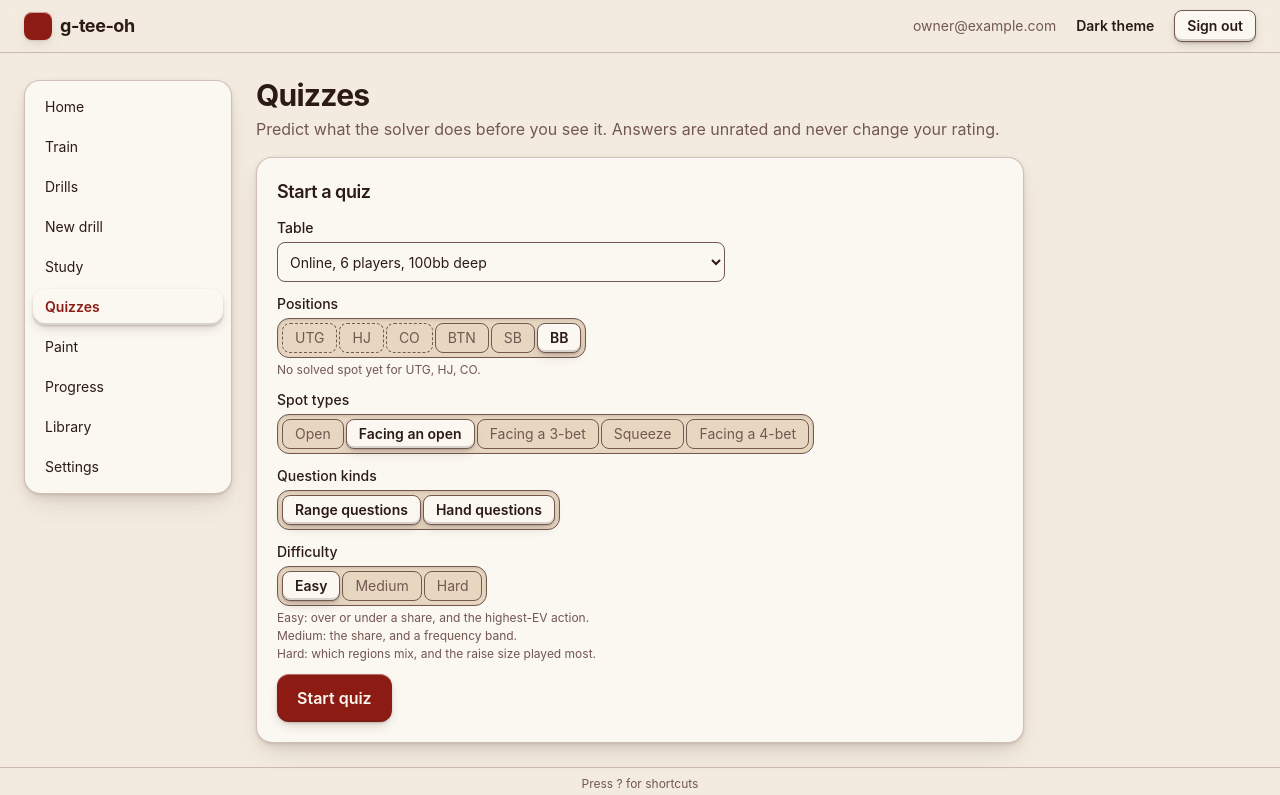
Test: R3.16 the quiz's Enter submits from the chosen option or the page only (PR #45 round 4 b, PR #49 round 1) › R3.16 Enter on a ticked region with a complete answer sends it with every ticked region (PR #49 round 2)
This screenshot has width=1280, height=795.
Click the button "Start quiz".
click(334, 698)  # box [277,674,392,722]
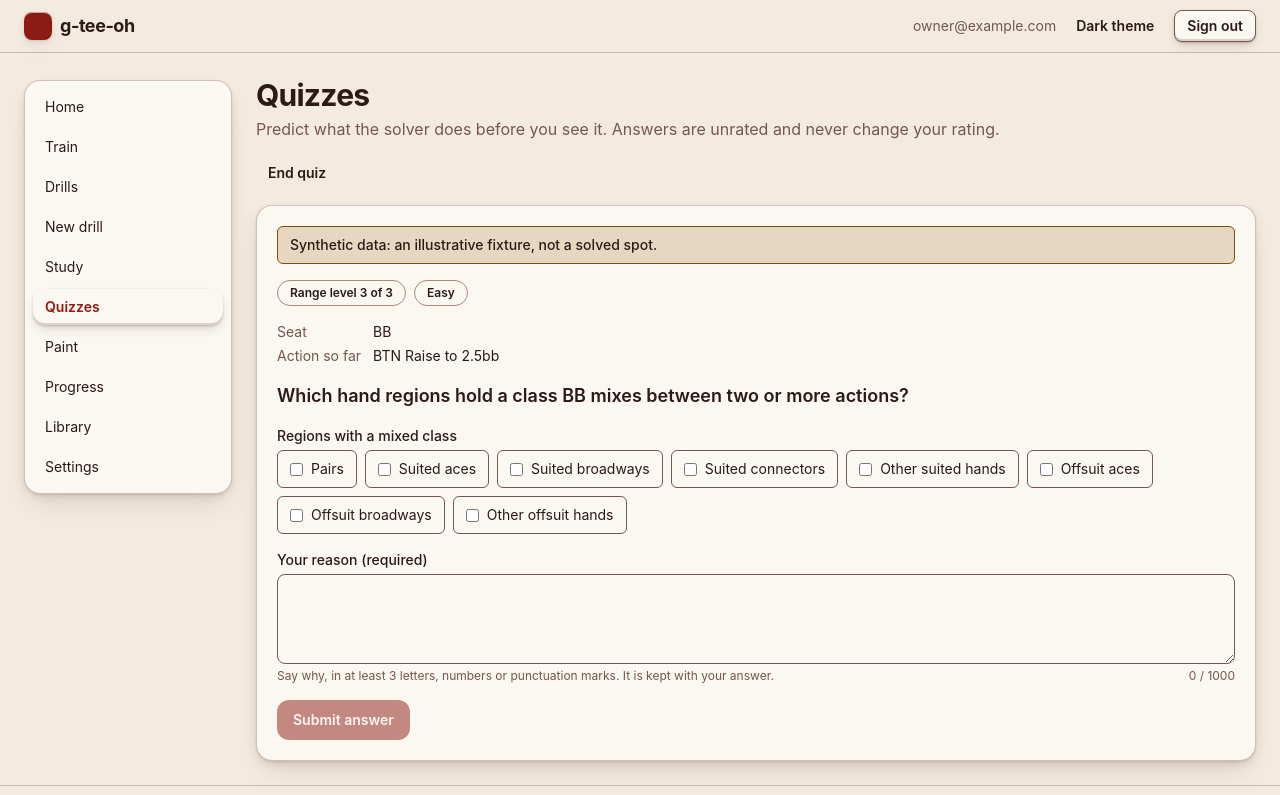
Check: the heading "Which hand regions hold a class BB mixes between two or more actions?" is shown, box [277,385,909,406]
Type "Facing a small open, the price is good." into the text box labelled "Your reason (required)".
click(756, 619); type("Facing a small open, the price is good.")  # box [277,574,1235,664]
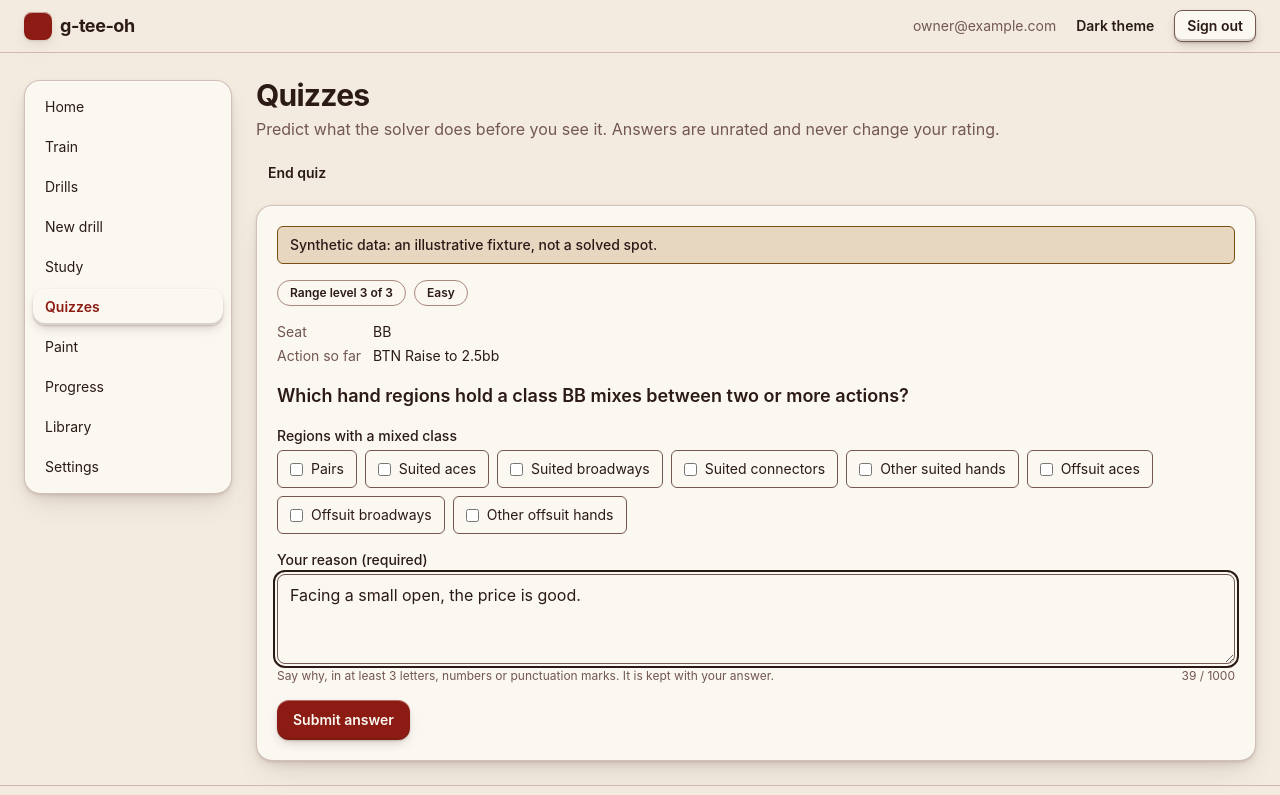
Click the checkbox labelled "Pairs".
click(296, 469)  # box [290,462,303,476]
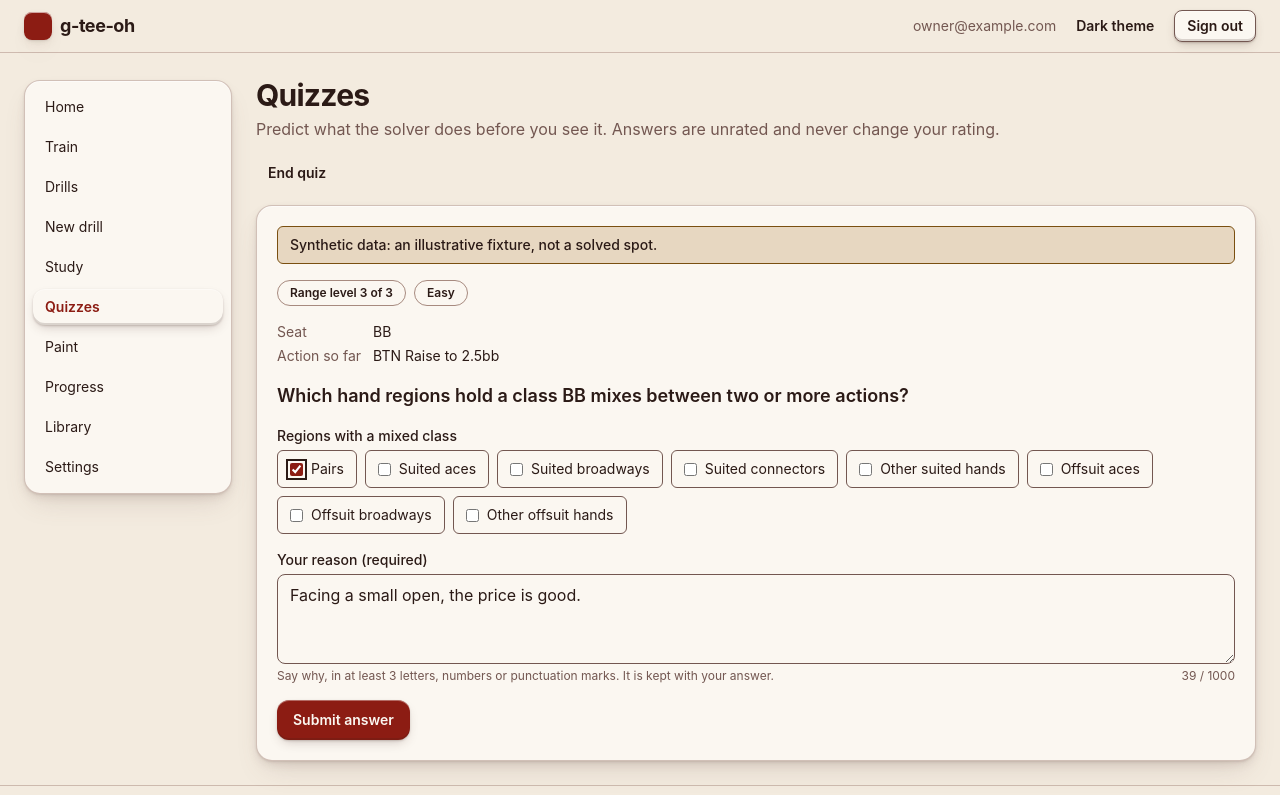
Click the checkbox labelled "Suited aces".
click(384, 469)  # box [378,462,391,476]
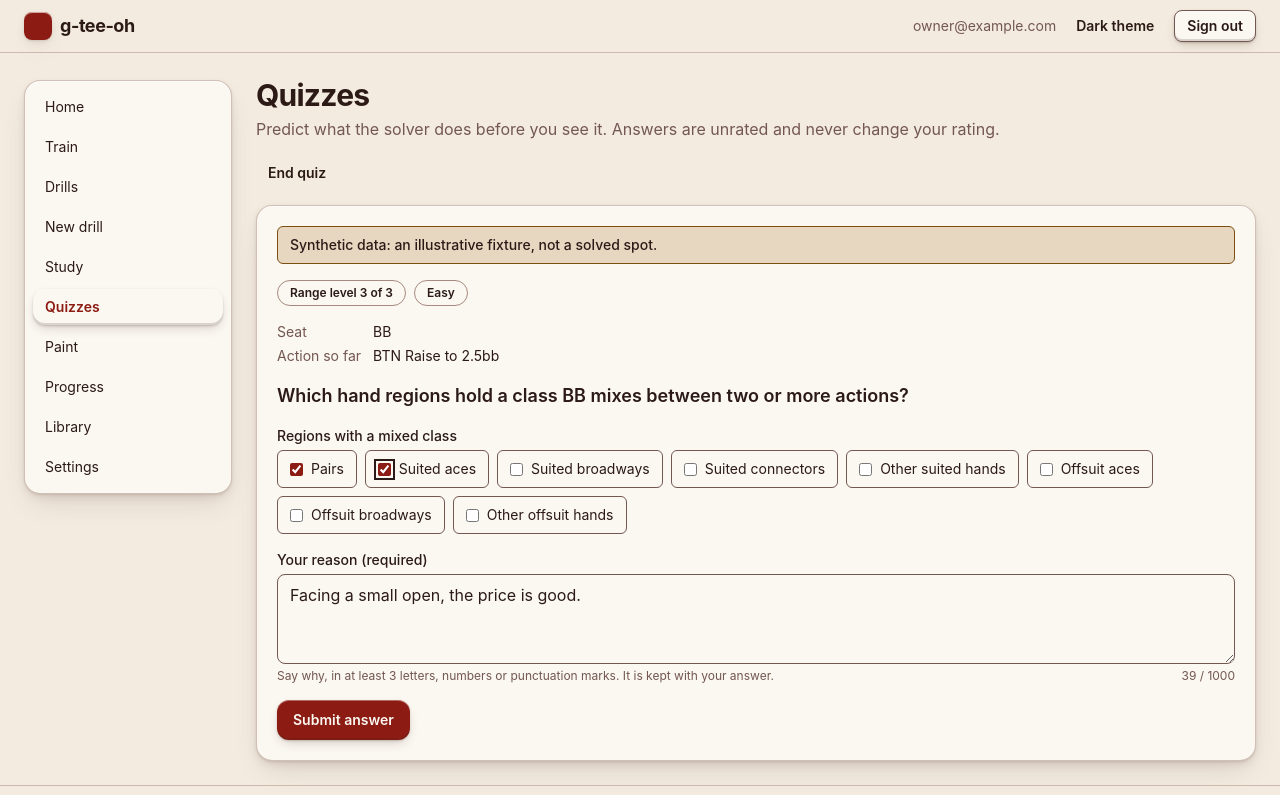
Press Enter
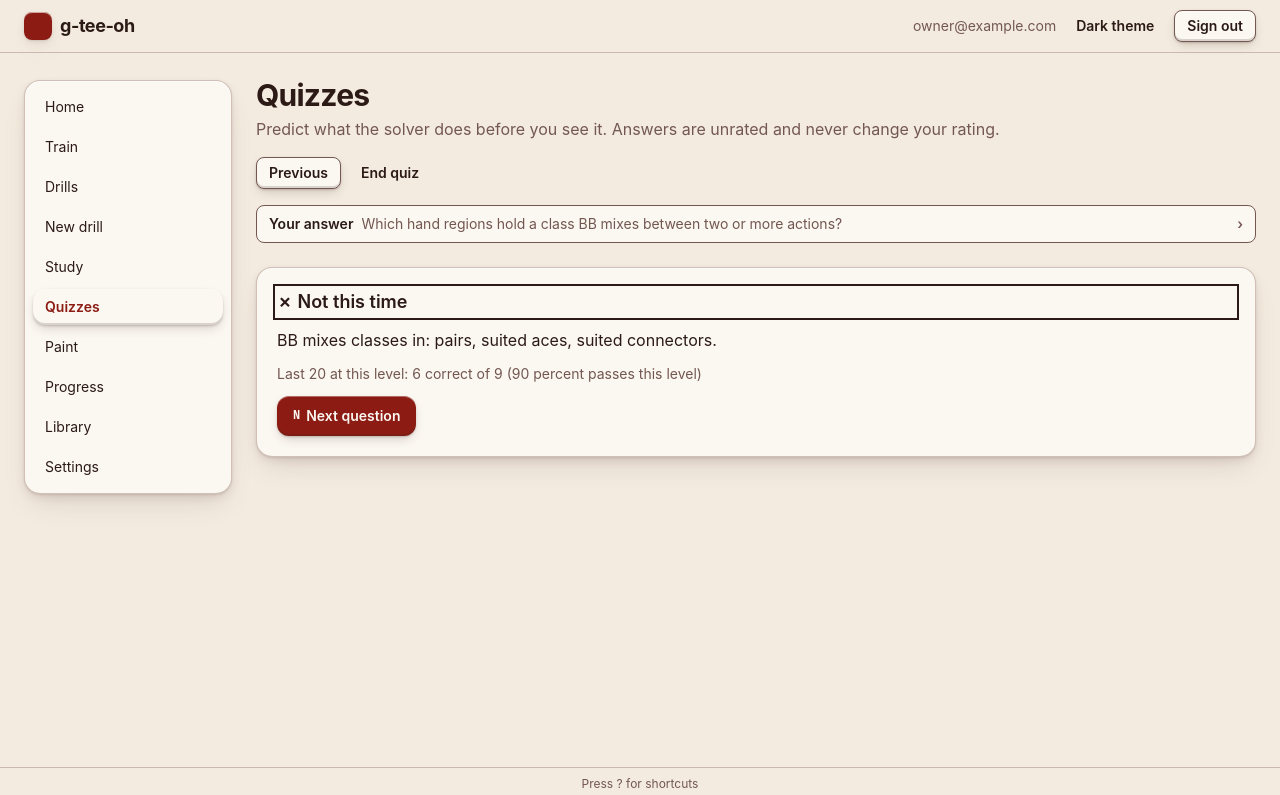
Check: the element with test id "prediction-result" is shown, box [256,267,1256,457]
